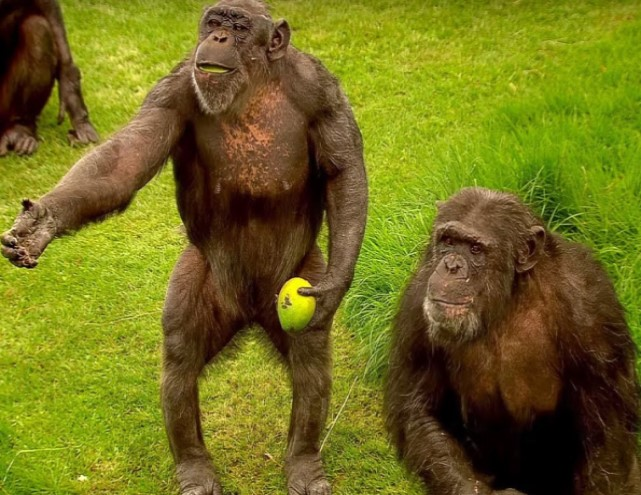Chimpanzee: (169, 1, 345, 336), (406, 197, 621, 471)
